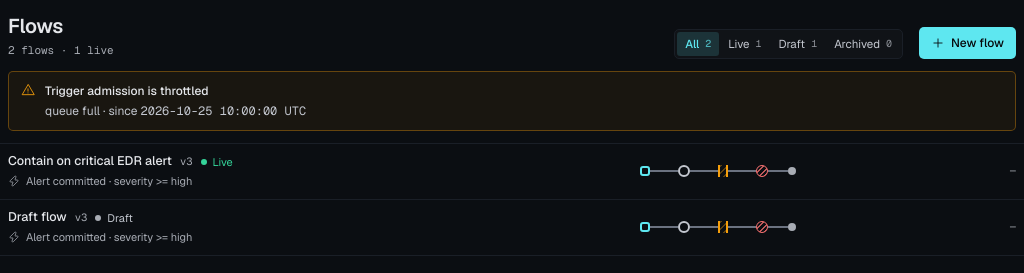
Test: Flows › data + backpressure notice
Check: the number of links with test id "flow-row" is 2, box x1=0 y1=144 x2=1023 y2=200; x1=0 y1=200 x2=1023 y2=256
Check: the text "Trigger admission is throttled" is shown, box x1=45 y1=82 x2=208 y2=98
Click the tab "Draft 1" at (798, 44), box x1=770 y1=32 x2=825 y2=56
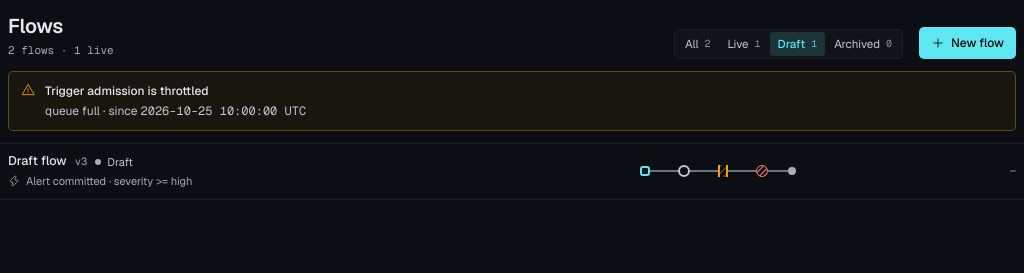
Check: the number of links with test id "flow-row" is 1, box x1=0 y1=144 x2=1023 y2=200
